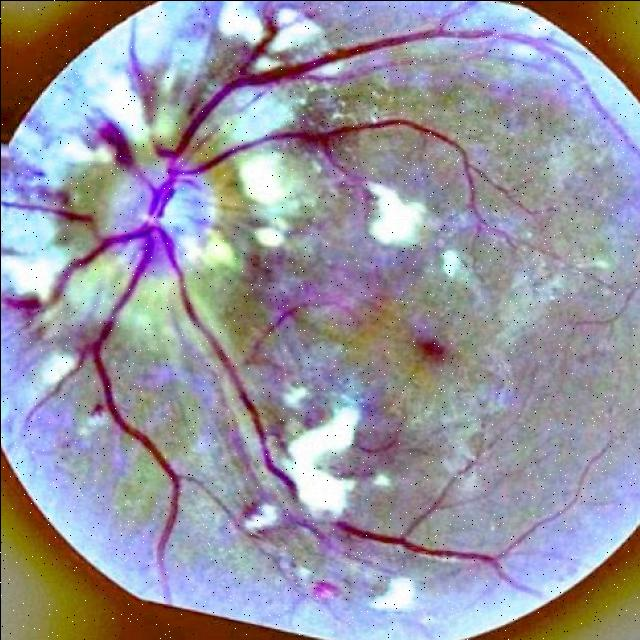Macula: (403, 330, 463, 380)
Nerves: (176, 11, 548, 136), (83, 283, 191, 587), (175, 277, 313, 504), (20, 238, 107, 318)
Optic Disk: (105, 139, 222, 272)
